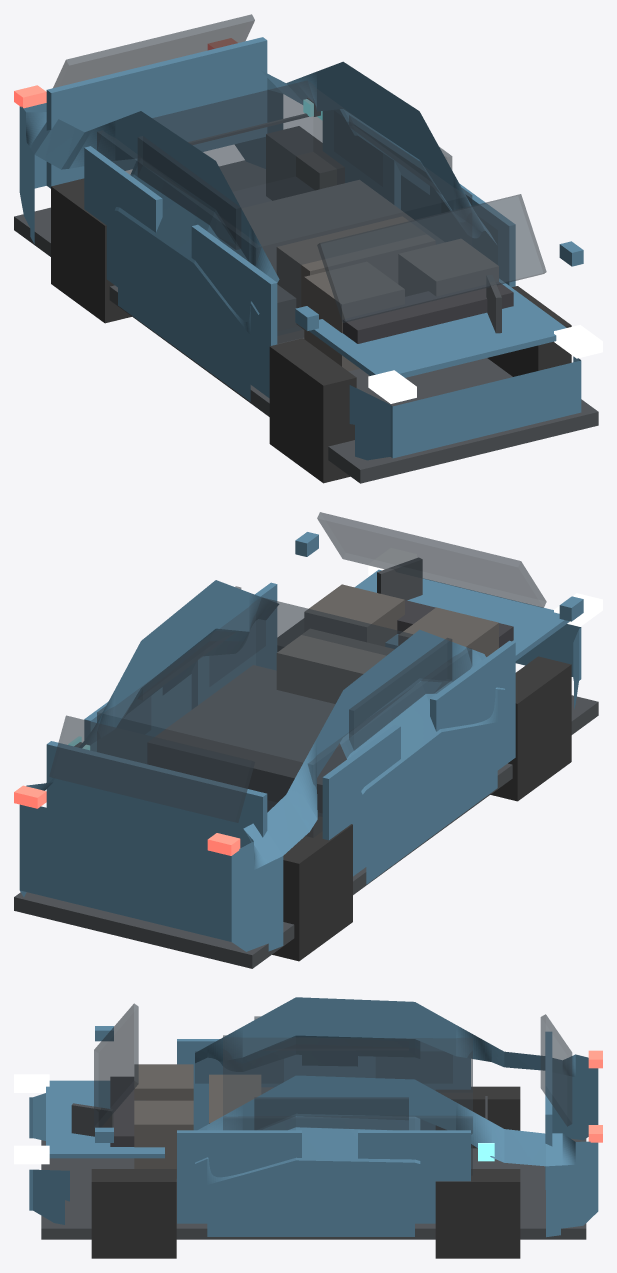
Rendered from compact_crossover.65db3e4479.glb.
The picture shows the model from 3 angles, top to bottom: view 1: azimuth 30°, elevation 25°; view 2: azimuth 150°, elevation 25°; view 3: azimuth 270°, elevation 25°; orthographic projection. The views are drawn at different scales.
Visible parts, largest first — view 1: body_mesh, cab_mesh, windshield, liftgate_mesh, trim_mesh, tire_fr, frunk_mesh, wheel_well_mesh, tire_rr, seat_rear, door_fr_mesh, seat_r (+13 smaller); view 2: body_mesh, cab_mesh, wheel_well_mesh, liftgate_mesh, rear_glass, windshield, tire_rr, trim_mesh, tire_fr, seat_rear, door_fr_mesh, door_rr_mesh (+12 smaller); view 3: body_mesh, cab_mesh, tire_fl, trim_mesh, tire_rl, door_fl_mesh, door_rl_mesh, window_fixed_l, frunk_mesh, windshield, door_rr_mesh, seat_l (+12 smaller).
Boxes of the visible parts, box(x1,y1,x2,y2) form: body_mesh: box(19, 61, 581, 460); cab_mesh: box(97, 80, 472, 335); windshield: box(317, 194, 546, 322); liftgate_mesh: box(46, 37, 267, 188); trim_mesh: box(14, 160, 598, 483); tire_fr: box(269, 338, 356, 483); frunk_mesh: box(309, 279, 566, 377); wheel_well_mesh: box(241, 180, 444, 343); tire_rr: box(51, 178, 131, 323); seat_rear: box(276, 216, 435, 329); door_fr_mesh: box(191, 224, 277, 398); seat_r: box(304, 262, 404, 371); body_mesh: box(19, 580, 581, 951); cab_mesh: box(97, 597, 472, 837); wheel_well_mesh: box(147, 665, 346, 816); liftgate_mesh: box(46, 741, 267, 847); rear_glass: box(49, 715, 254, 822); windshield: box(317, 512, 546, 607); tire_rr: box(272, 816, 352, 961); trim_mesh: box(14, 695, 598, 968); tire_fr: box(490, 656, 571, 801); seat_rear: box(276, 629, 394, 703); door_fr_mesh: box(430, 640, 515, 770); door_rr_mesh: box(322, 725, 400, 876); body_mesh: box(29, 997, 598, 1237); cab_mesh: box(223, 1035, 472, 1175); tire_fl: box(91, 1169, 176, 1258); trim_mesh: box(41, 1138, 586, 1239); tire_rl: box(435, 1169, 520, 1258); door_fl_mesh: box(177, 1130, 301, 1223); door_rl_mesh: box(358, 1130, 470, 1223); window_fixed_l: box(254, 1097, 408, 1130); frunk_mesh: box(46, 1080, 164, 1158); windshield: box(94, 1003, 138, 1127); door_rr_mesh: box(358, 1042, 470, 1129); seat_l: box(134, 1100, 193, 1178).
Bounding box in the file's own units: 2.11 × 1.62 × 4.95.
